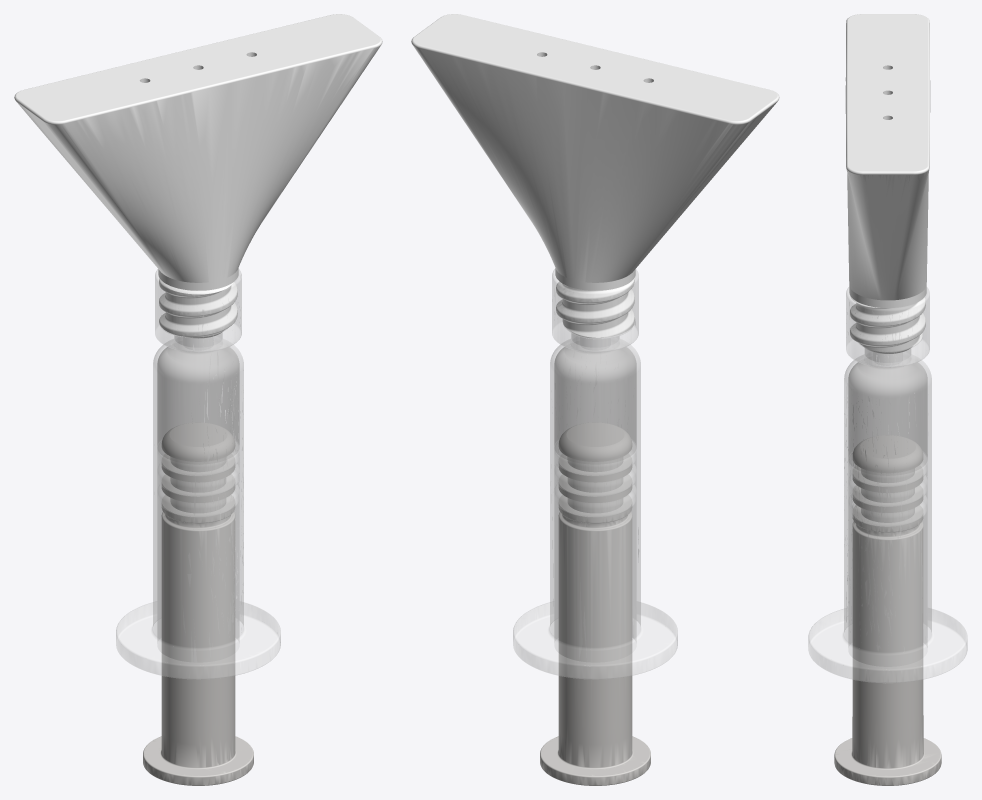
The picture shows the model from 3 angles, left to right: view 1: azimuth 30°, elevation 25°; view 2: azimuth 150°, elevation 25°; view 3: azimuth 270°, elevation 25°; orthographic projection. The views are drawn at different scales.
Parts seen in each view (by area): view 1: vialApplicator, vialGlass, vialPlunger, vialFluid, vialScrewGlass, vialTapping3, vialTapping1, vialTapping2; view 2: vialApplicator, vialGlass, vialPlunger, vialFluid, vialScrewGlass, vialTapping2, vialTapping3, vialTapping1; view 3: vialGlass, vialApplicator, vialPlunger, vialFluid, vialScrewGlass, vialTapping2, vialTapping3, vialTapping1.
Part boxes in pixels (<box>): vialApplicator: <box>14,14,382,336</box>; vialGlass: <box>116,333,280,679</box>; vialPlunger: <box>143,422,253,785</box>; vialFluid: <box>157,337,239,464</box>; vialScrewGlass: <box>155,269,241,352</box>; vialTapping3: <box>157,485,239,517</box>; vialTapping1: <box>157,443,239,475</box>; vialTapping2: <box>157,464,239,496</box>; vialApplicator: <box>411,14,779,337</box>; vialGlass: <box>513,333,677,679</box>; vialPlunger: <box>540,422,650,785</box>; vialFluid: <box>554,337,636,464</box>; vialScrewGlass: <box>552,269,638,351</box>; vialTapping2: <box>554,464,636,496</box>; vialTapping3: <box>554,485,636,517</box>; vialTapping1: <box>554,442,636,475</box>; vialGlass: <box>808,348,967,683</box>; vialApplicator: <box>845,14,930,350</box>; vialPlunger: <box>834,435,941,785</box>; vialFluid: <box>848,353,927,475</box>; vialScrewGlass: <box>846,287,929,367</box>; vialTapping2: <box>848,475,927,506</box>; vialTapping3: <box>848,495,927,526</box>; vialTapping1: <box>848,456,927,486</box>.
Size of the model in its own units: 8.9 by 17.71 by 3.77.
Materials: 9 (2 with a texture image).
